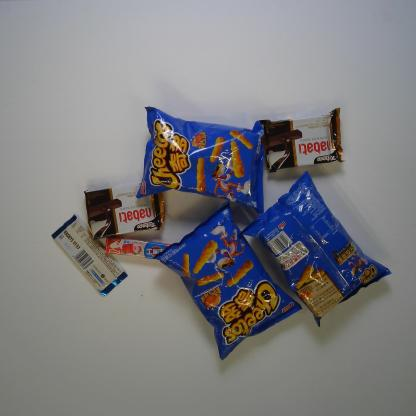Candy: (104, 237, 181, 263)
Chocolate: (51, 215, 128, 297)
Dessert: (258, 107, 345, 173), (84, 181, 165, 240)
Puffed Food: (152, 198, 303, 362), (238, 170, 392, 328), (134, 106, 266, 215)
